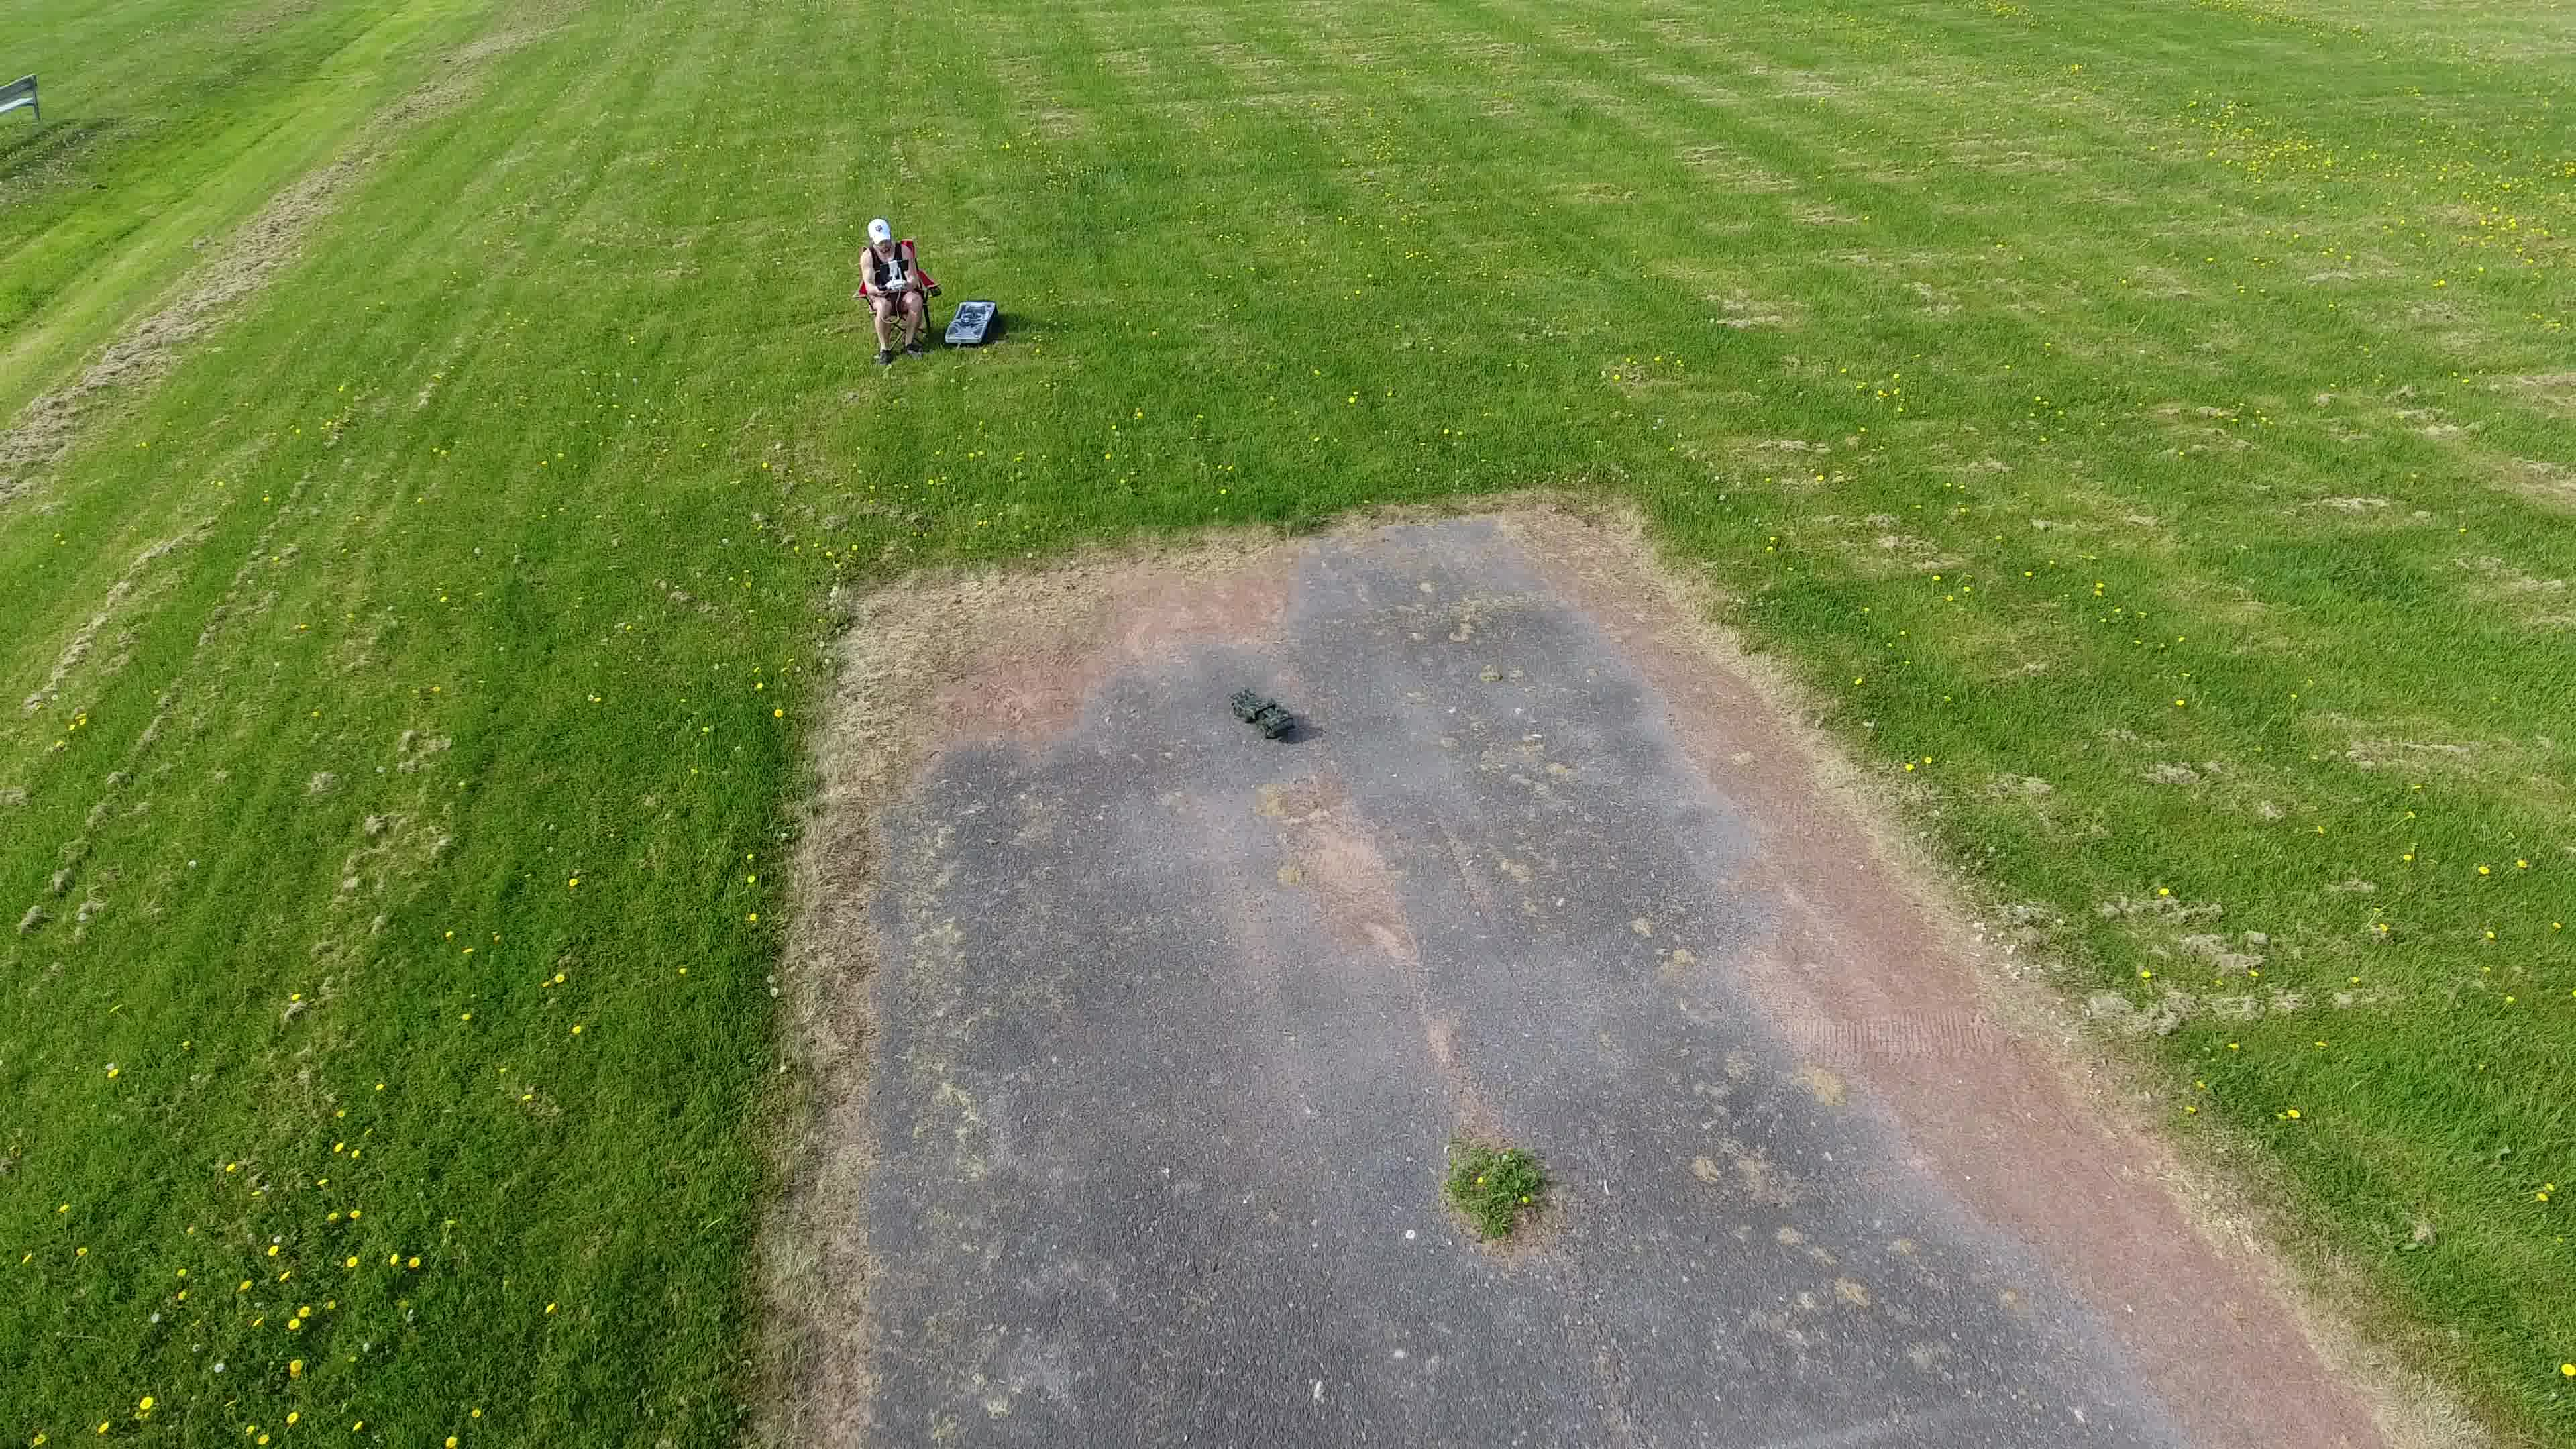transporter9_camo: (1226, 683, 1299, 741)
